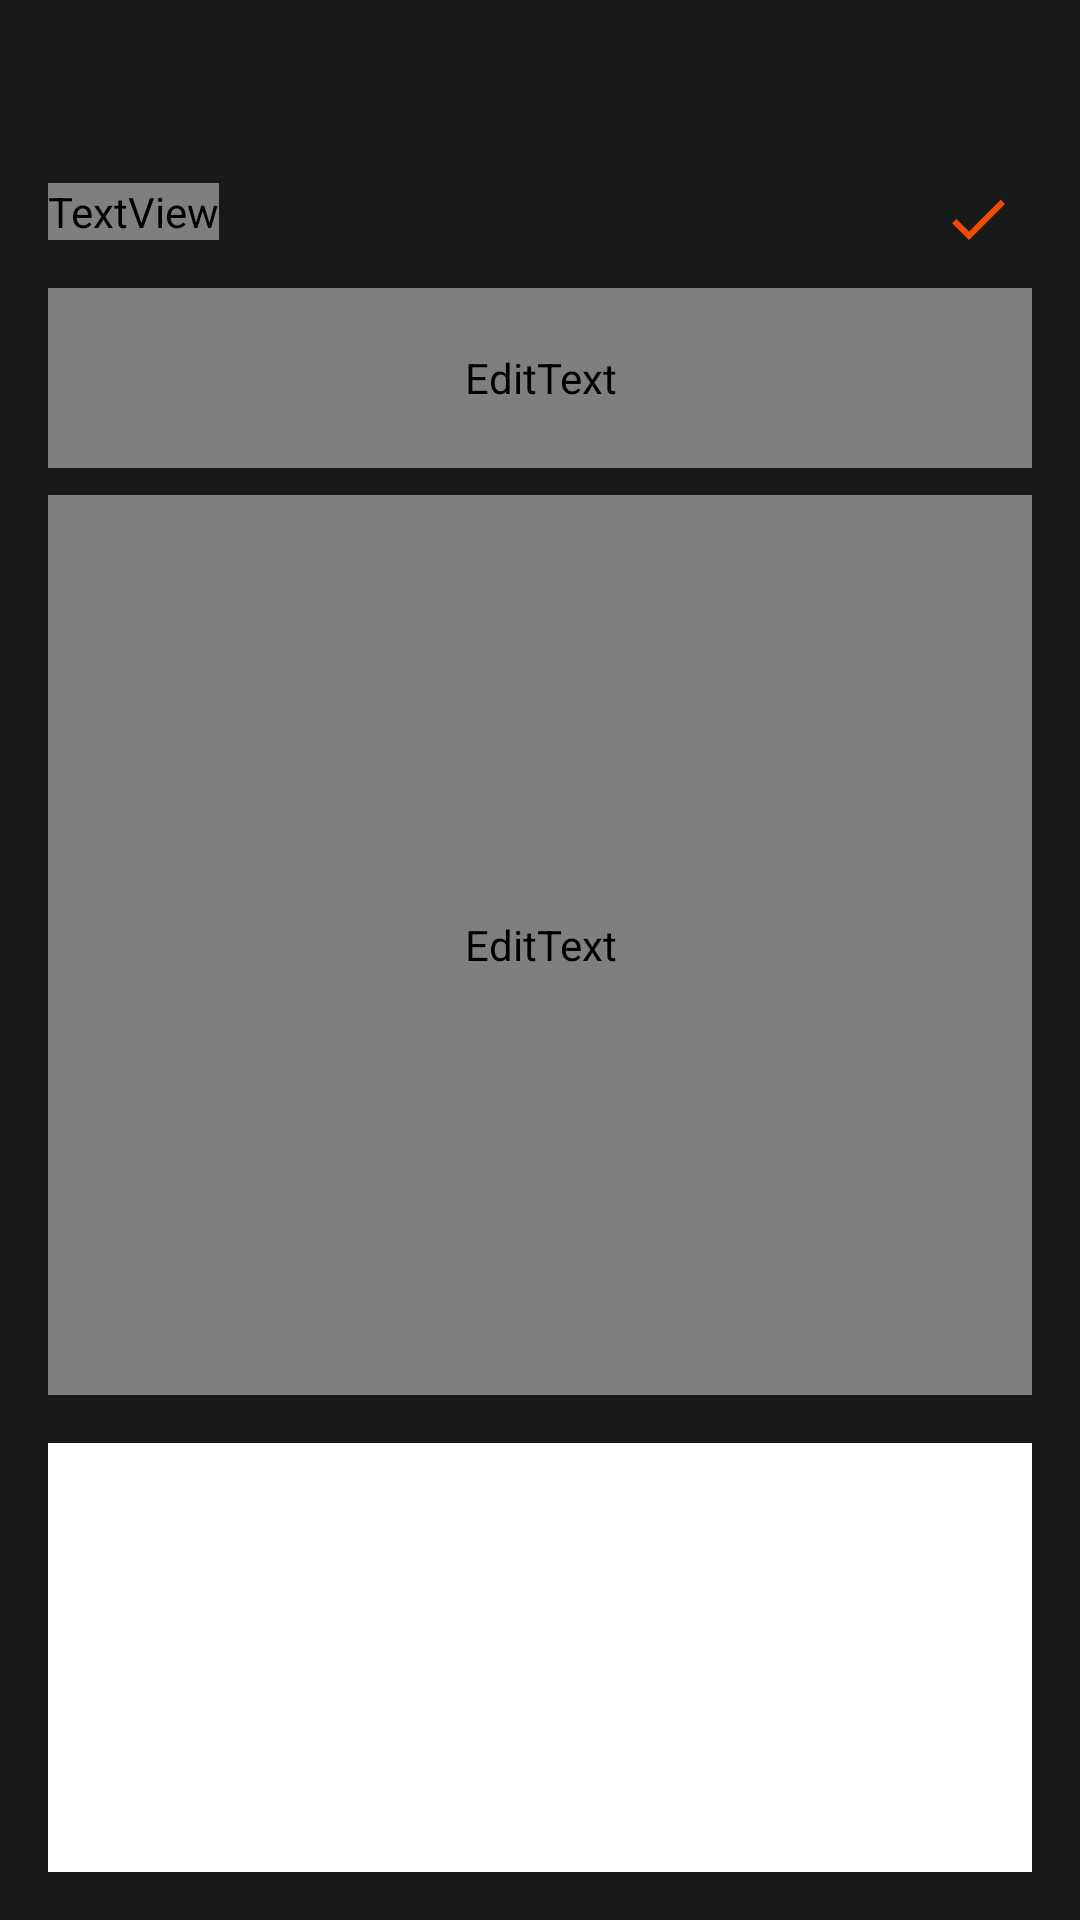

Where to tap for icons on this 1080px×1920px app screen, as (x,y):
done: (978,220)
